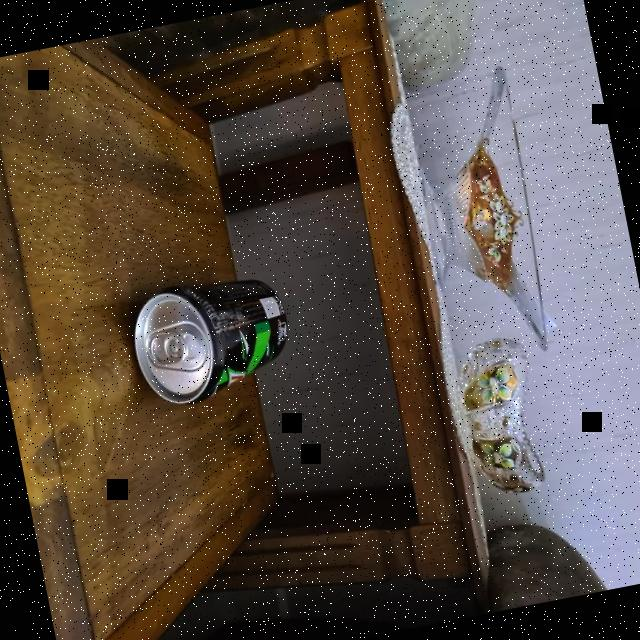can: (126, 266, 306, 414)
